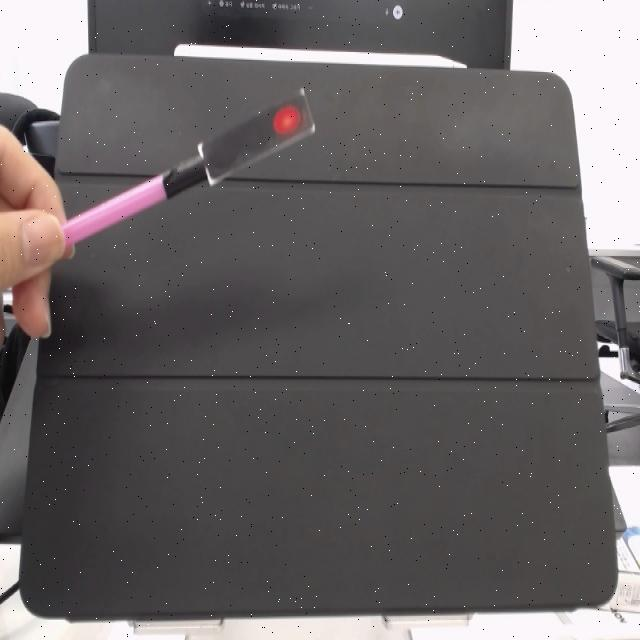traffic light: (206, 89, 316, 183)
